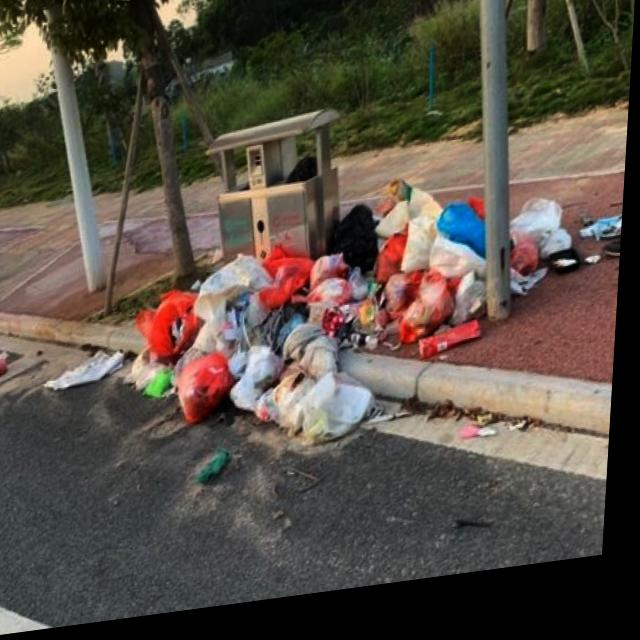garbage: (44, 164, 628, 507)
overflow: (199, 113, 350, 280)
